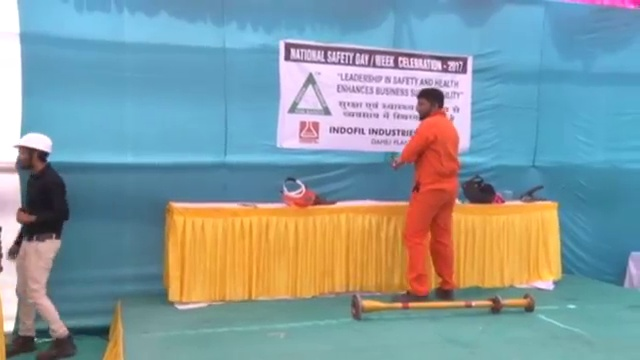helmet: (11, 131, 53, 154)
helmet_off: (413, 88, 445, 117)
helmet_on: (11, 130, 53, 169)
person: (5, 132, 79, 360), (394, 83, 461, 302)
